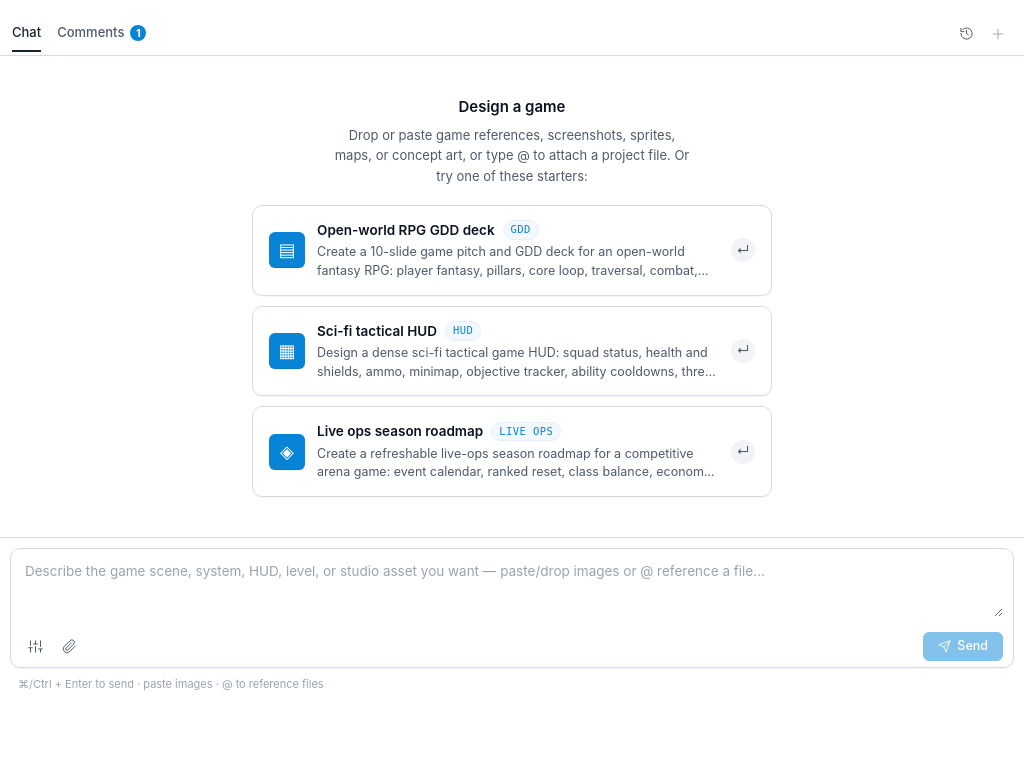
Test: ChatPane comment notifications › badges new preview comments while Chat is active and clears when Comments is opened
This screenshot has width=1024, height=780.
Expected: the text with test id "comment-notification-badge" reads "1", top-left (136, 26), bottom-right (141, 38)
Step 1. Click the tab with aria-label "Comments (1 new)" → click(102, 34), box top-left (57, 15), bottom-right (146, 52)
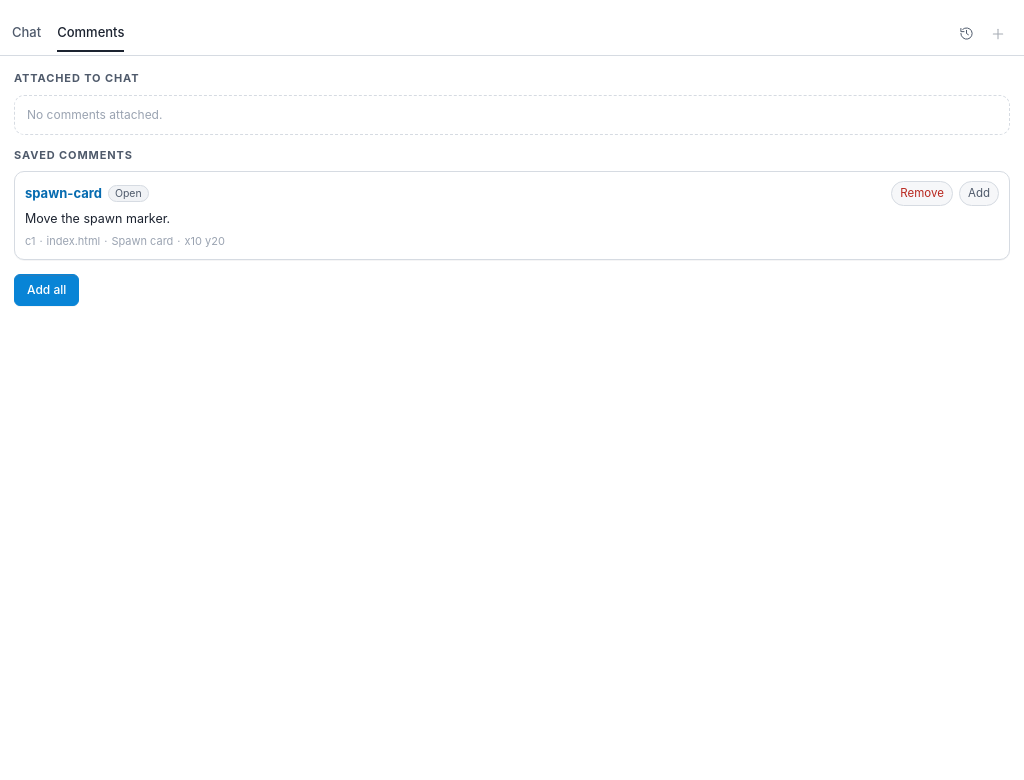
Expected: the tab "Comments" is shown, top-left (57, 15), bottom-right (124, 52)
Result: the text with test id "comment-notification-badge" is gone
